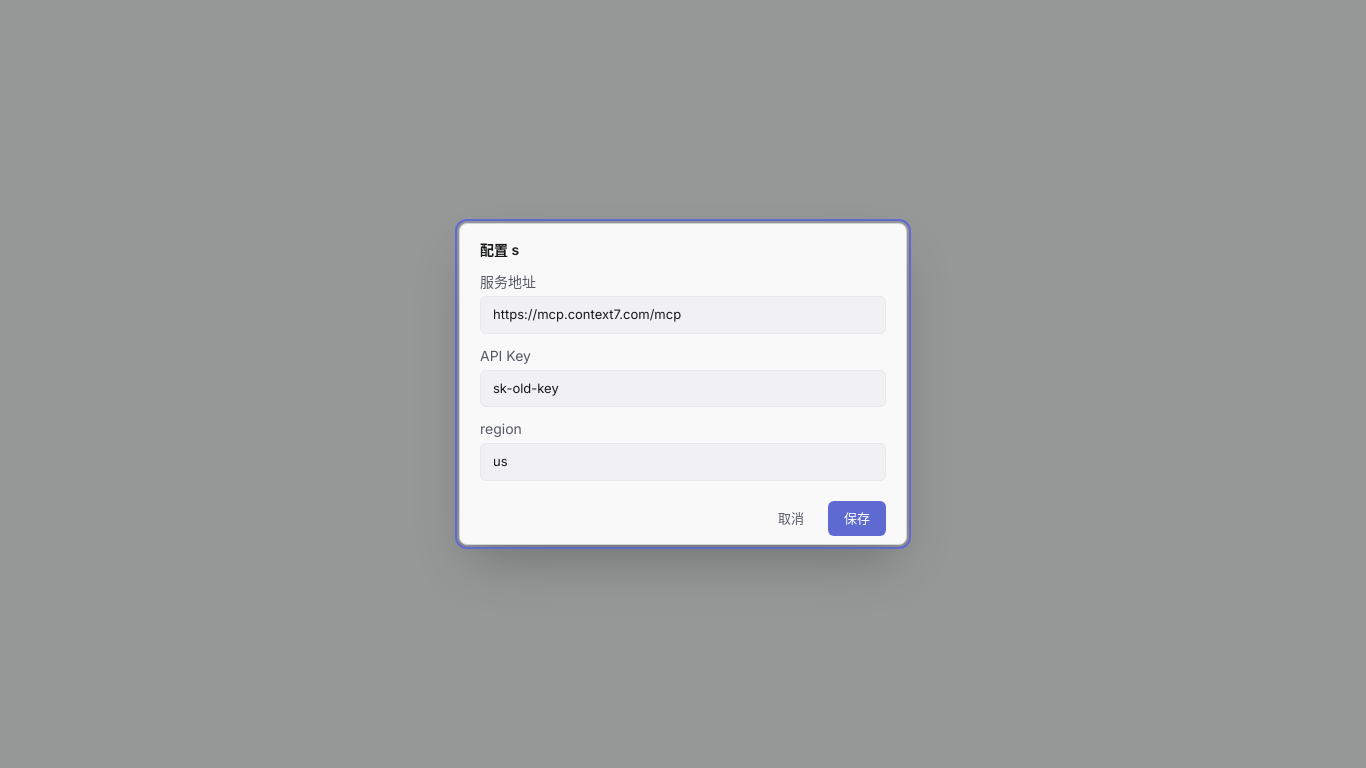
Test: McpConfigDialog — schema 模式回显（D9） › url 非 https → 禁提交（前端防线，spec §7）
This screenshot has width=1366, height=768.
Replace the text in the field labelled "服务地址" with "http://mcp.example.com/mcp" at (683, 315), box [480, 296, 886, 334]
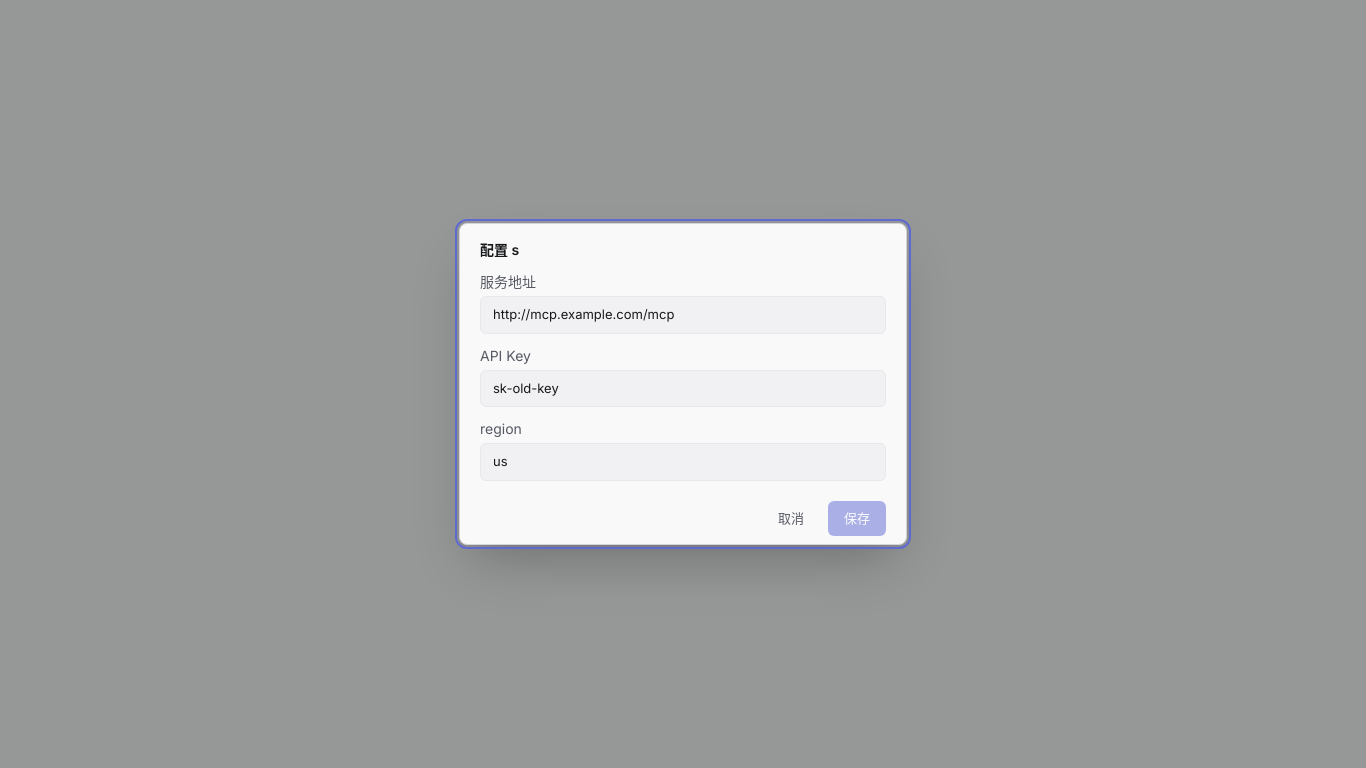
Check: the button "保存" is disabled, box [828, 500, 886, 536]
Replace the text in the field labelled "服务地址" with "https://mcp.example.com/mcp" at (683, 315), box [480, 296, 886, 334]
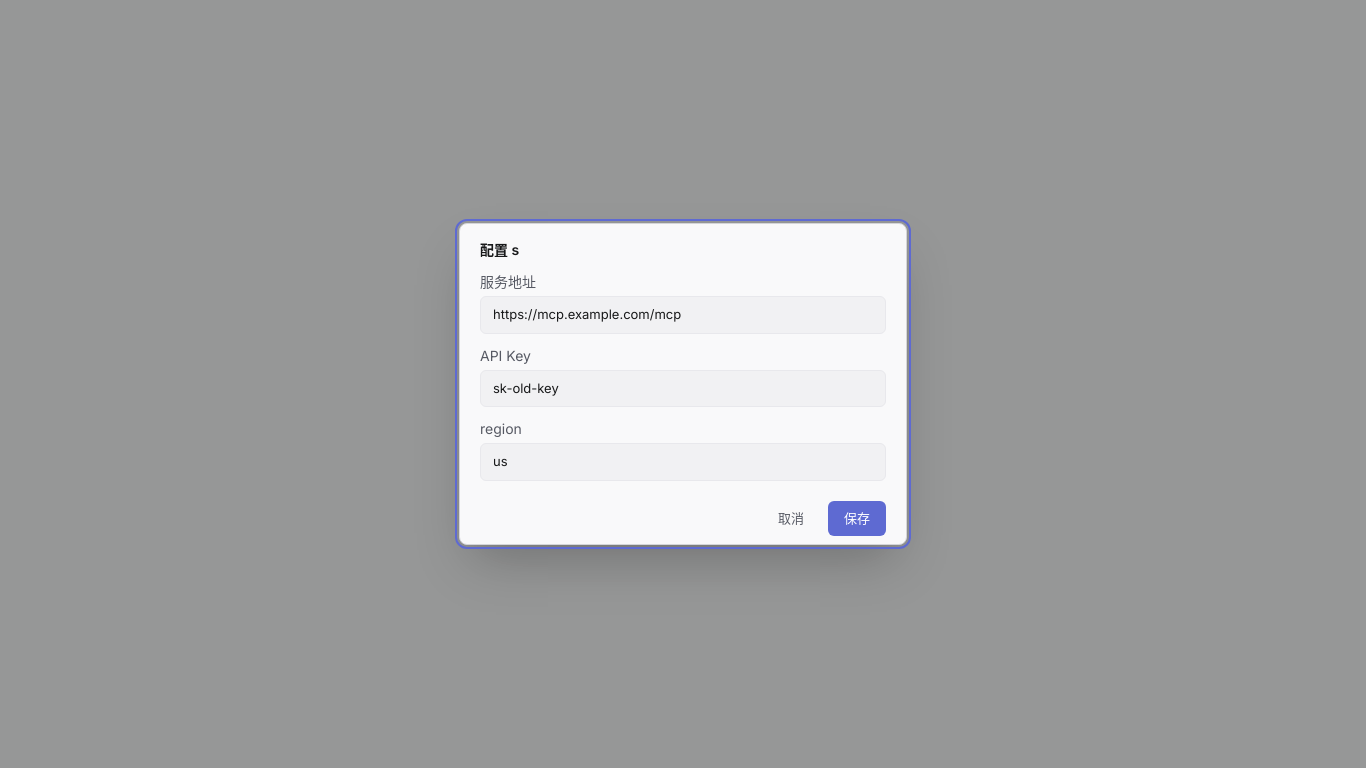
Check: the button "保存" is enabled, box [828, 500, 886, 536]
